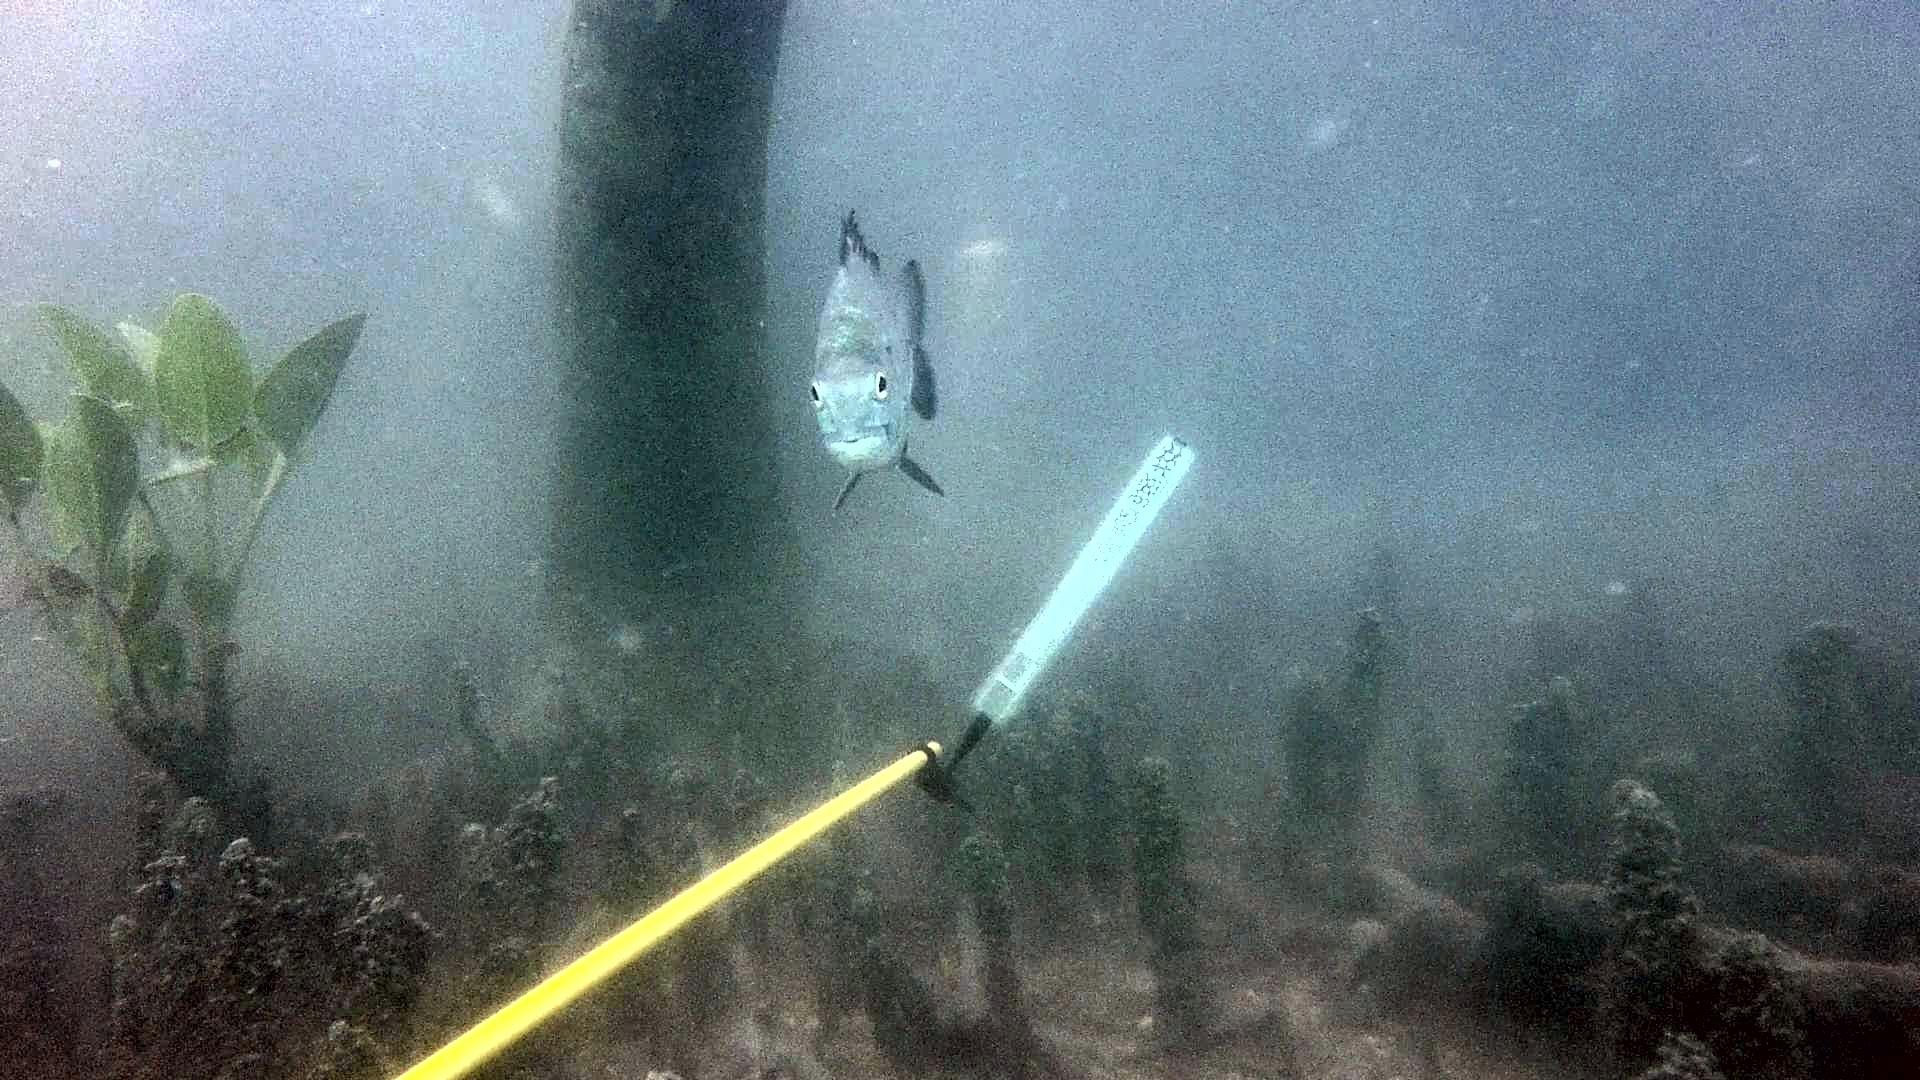acanthopagrus palmaris: (786, 183, 963, 522)
